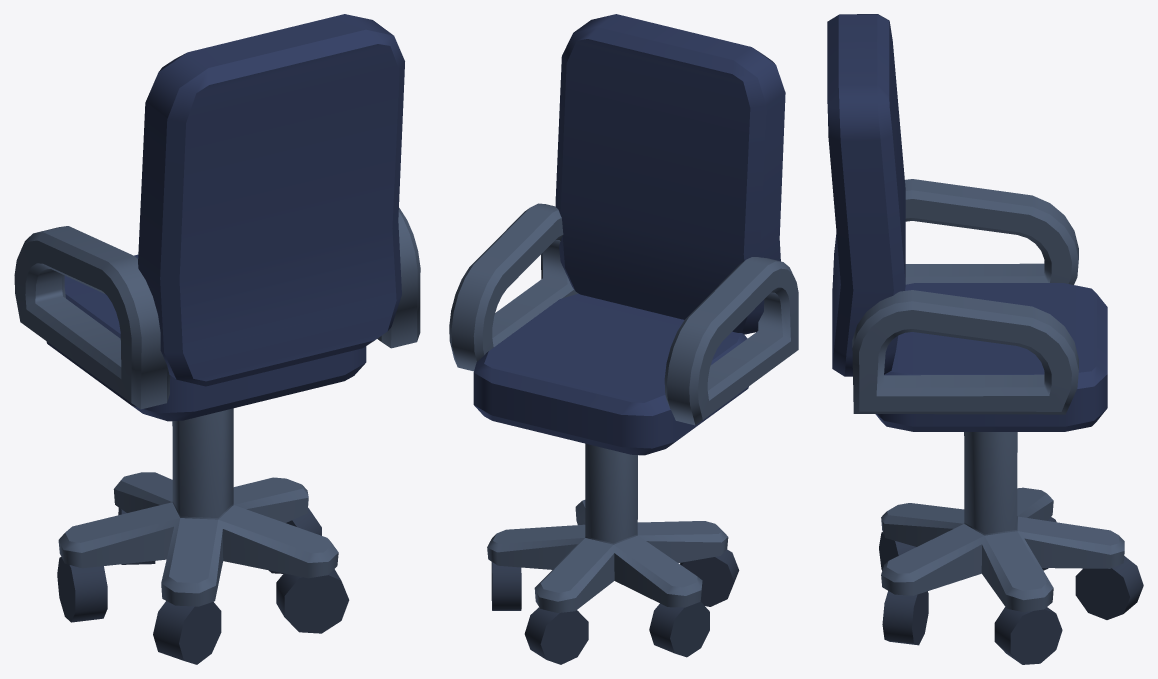
Rendered from deskChair1.fbx.
3 views of the same model, side by side, from view 1: azimuth 30°, elevation 25°; view 2: azimuth 150°, elevation 25°; view 3: azimuth 270°, elevation 25° (orthographic). The views are drawn at different scales.
Parts seen in each view (by area): view 1: deskChair; view 2: deskChair; view 3: deskChair.
Boxes of the visible parts, x1,y1,x2,y2 form: deskChair: [14, 14, 420, 664]; deskChair: [449, 14, 798, 664]; deskChair: [827, 14, 1143, 664].
Bounding box in the file's own units: 412 × 842 × 428.
